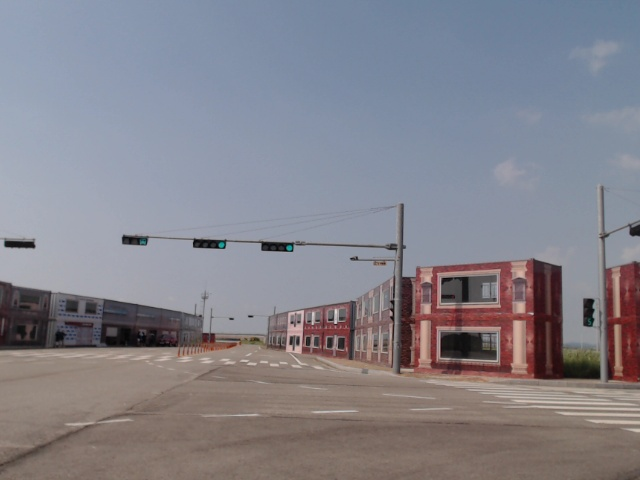straight_green_4: (193, 239, 228, 248), (261, 241, 294, 250)
